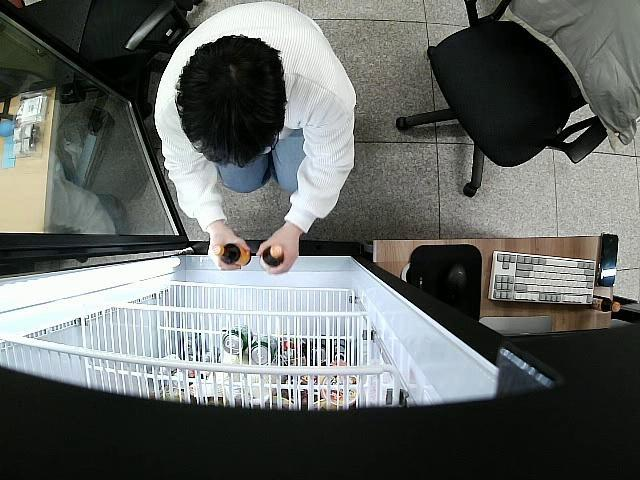17_vita500: (211, 244, 250, 268), (260, 246, 283, 271)
